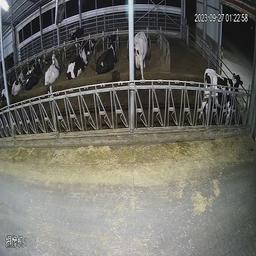cow: (194, 58, 244, 128), (95, 36, 121, 78), (67, 41, 91, 86), (133, 25, 151, 80), (39, 47, 62, 90), (20, 55, 39, 94), (8, 65, 22, 102), (67, 24, 86, 48)
